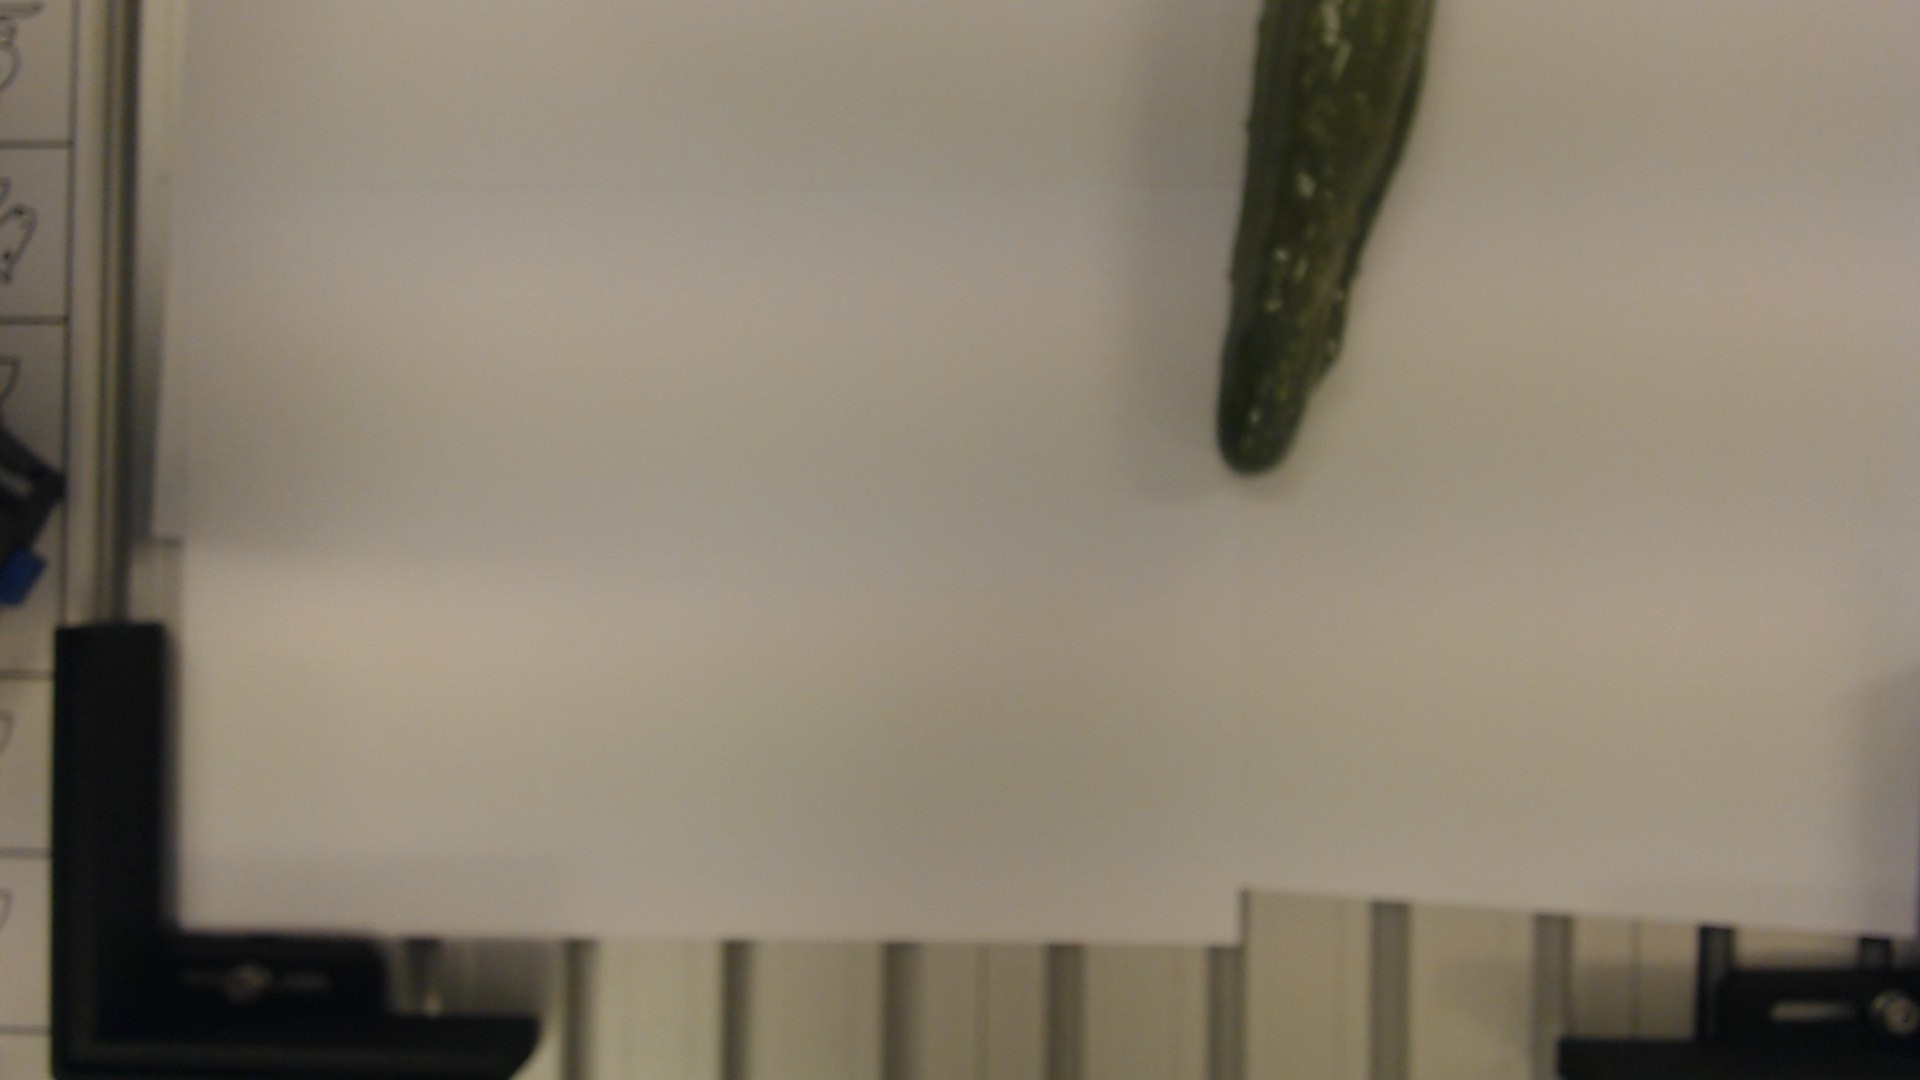Cucumber: (1195, 4, 1444, 471)
